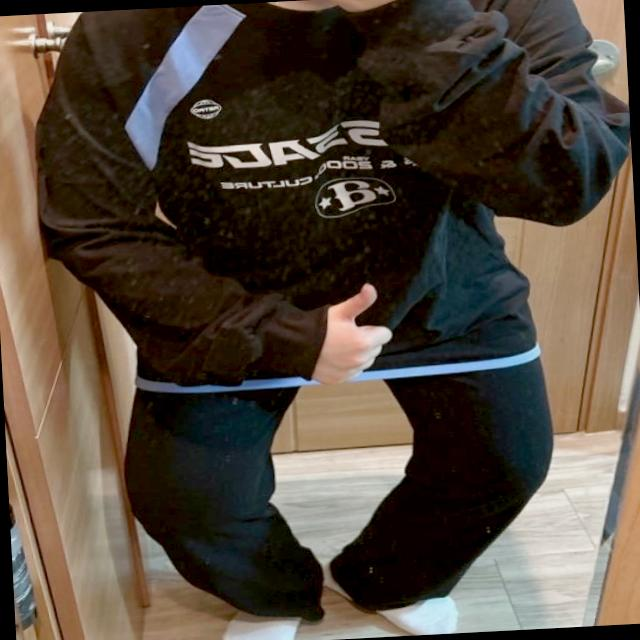longsleeve: (26, 0, 640, 397)
trainingpants: (119, 348, 570, 632)
